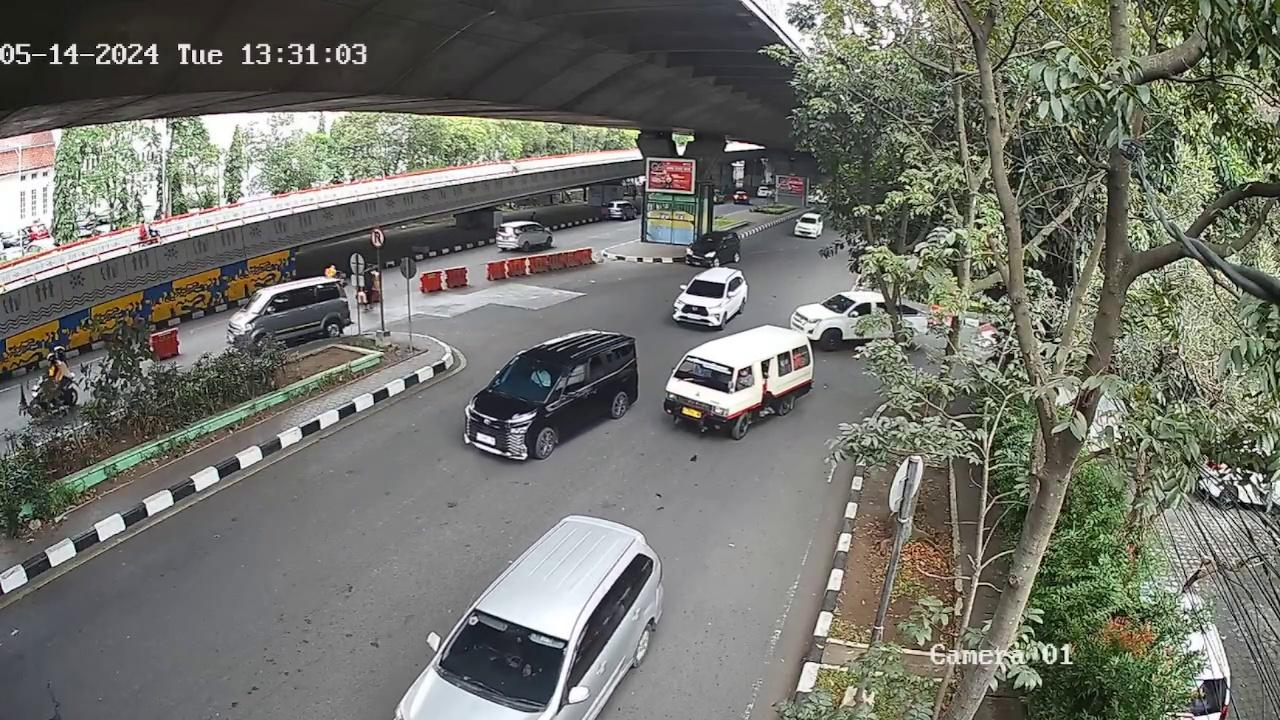pakai: (528, 367, 548, 388)
windshield: (434, 610, 571, 704), (494, 356, 562, 399), (671, 354, 739, 395), (682, 278, 728, 305)
